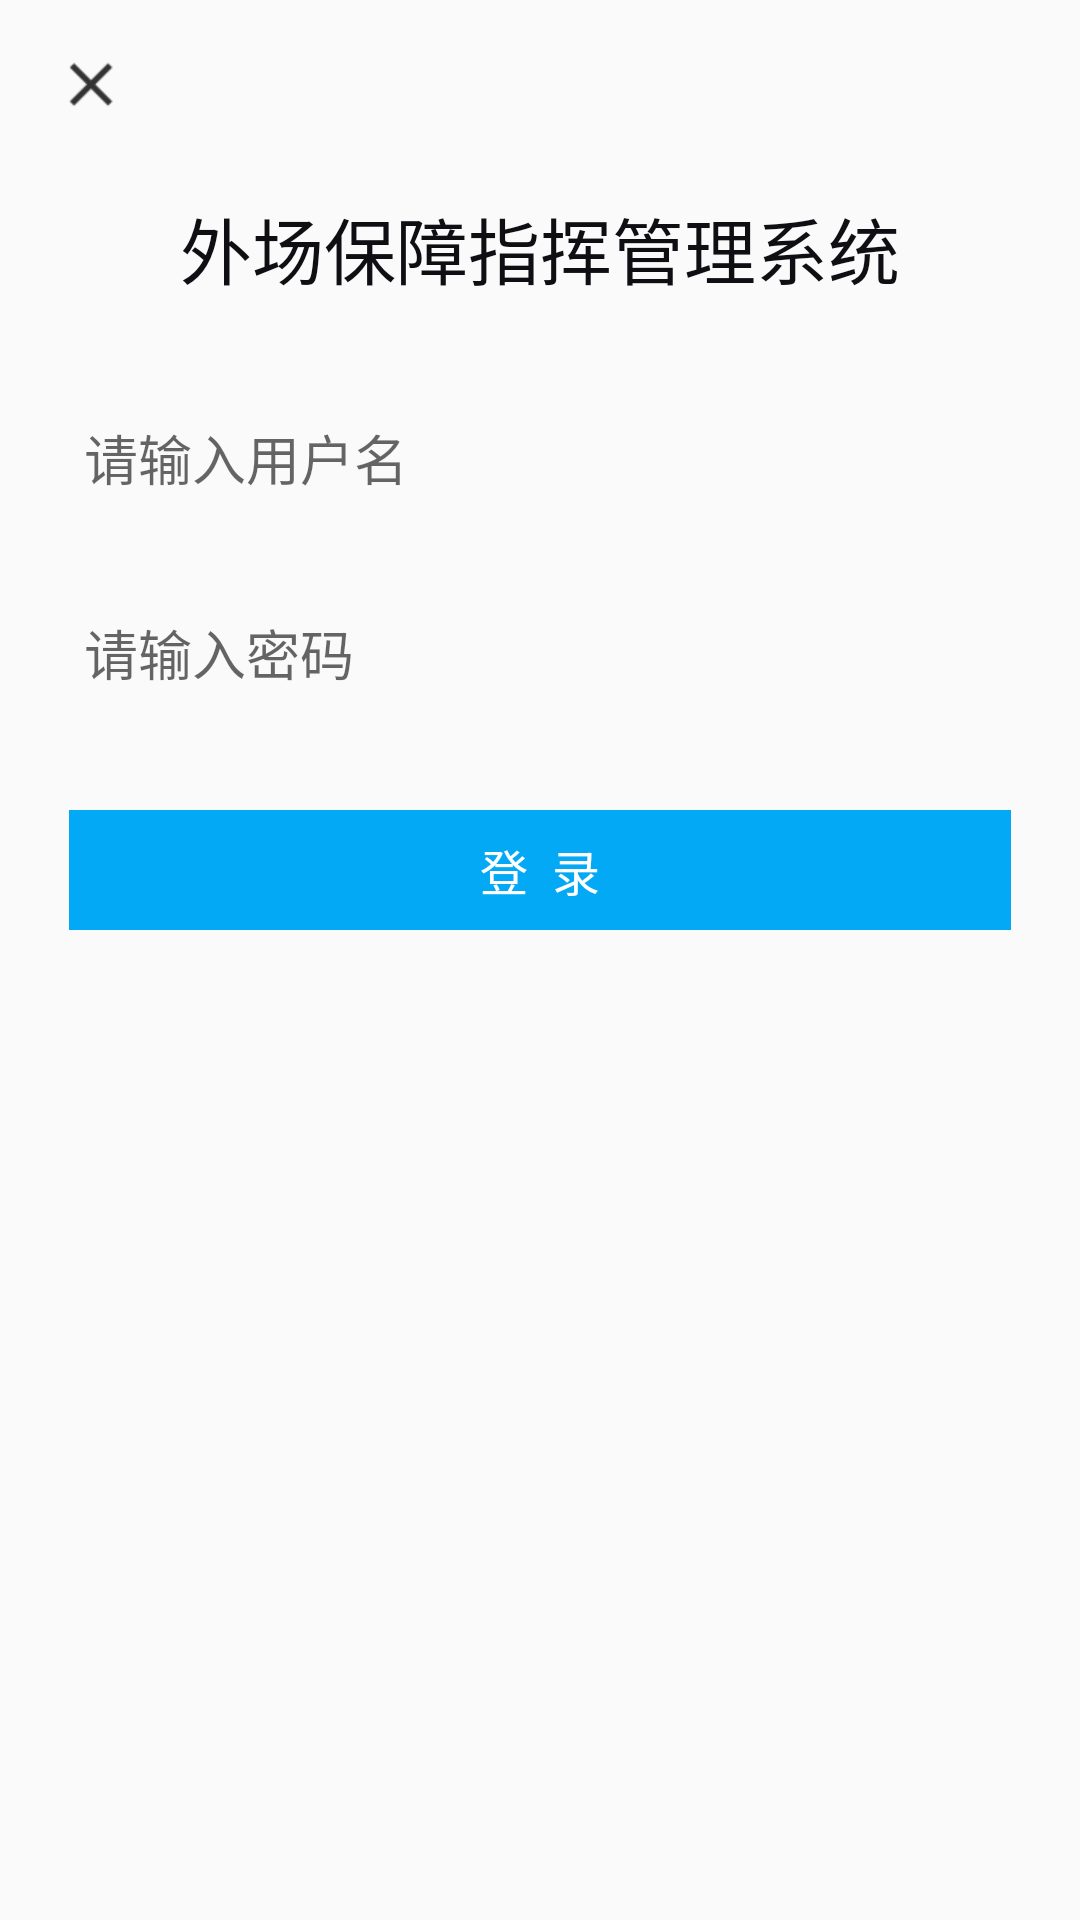

Icon click points for this 1080x1920 phone screenshot, format point (x, y):
close: point (91, 84)
